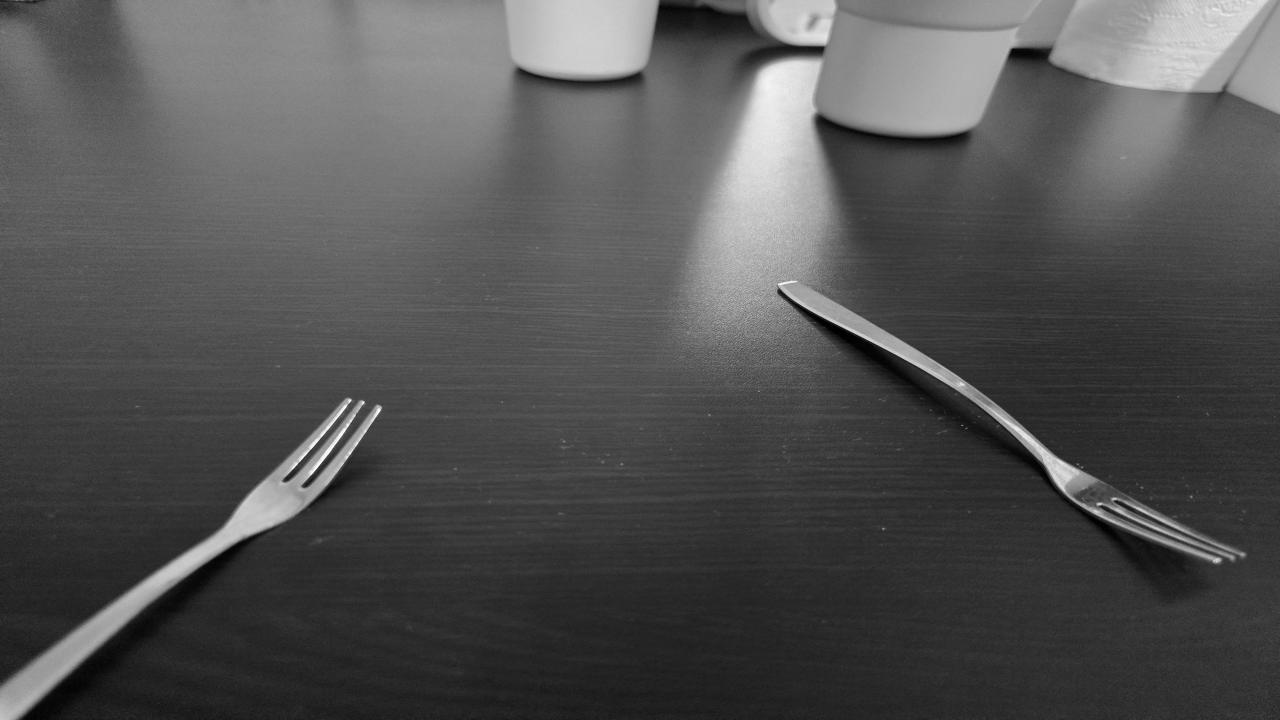fork: (775, 282, 1253, 562), (1, 392, 387, 720)
